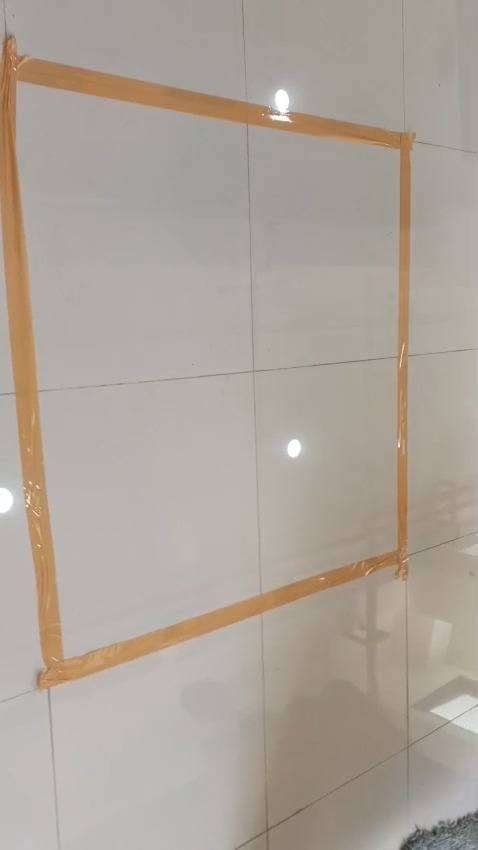floor marking: (1, 37, 414, 687)
